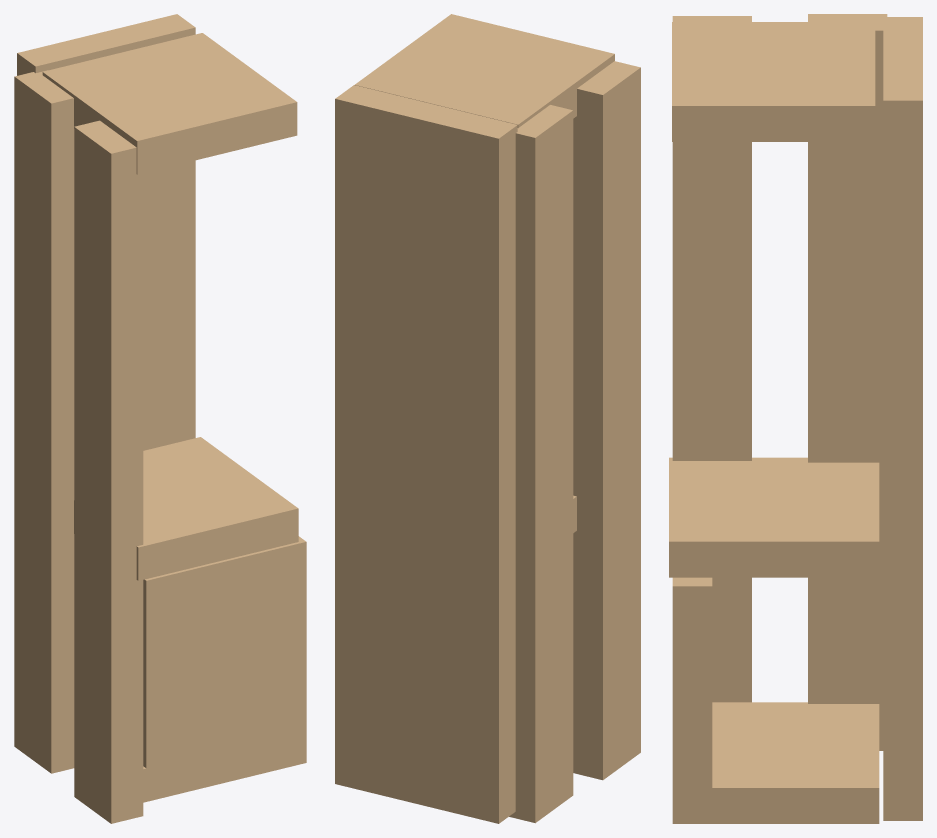
The model's file is tinker.obj.
3 views of the same model, side by side, from view 1: azimuth 30°, elevation 25°; view 2: azimuth 150°, elevation 25°; view 3: azimuth 270°, elevation 25° (orthographic). The views are drawn at different scales.
Visible parts, largest first — view 1: obj_0; view 2: obj_0; view 3: obj_0.
Part boxes in pixels (x1=…): obj_0: x1=14, y1=14, x2=306, y2=823; obj_0: x1=335, y1=14, x2=640, y2=823; obj_0: x1=669, y1=14, x2=922, y2=823.
Size of the model in its own units: 61 by 203 by 63.9.
